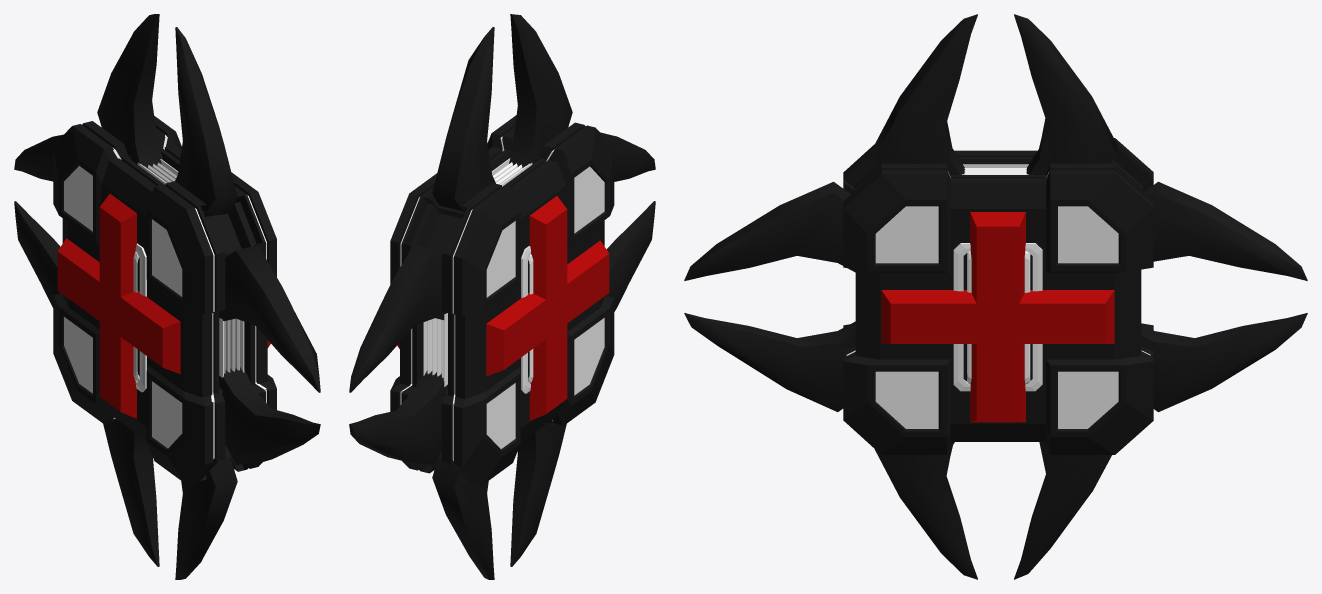
The model's file is Health_Pickup3.fbx.
3 renders of one model, left to right at view 1: azimuth 30°, elevation 25°; view 2: azimuth 150°, elevation 25°; view 3: azimuth 270°, elevation 25°, orthographic. The views are drawn at different scales.
Parts seen in each view (by area): view 1: mergedBlocks; view 2: mergedBlocks; view 3: mergedBlocks.
Part boxes in pixels (x1,y1,x2,y2): mergedBlocks: [14, 14, 320, 579]; mergedBlocks: [349, 14, 655, 579]; mergedBlocks: [684, 14, 1307, 579].
Bounding box in the file's own units: 4.97 × 24.03 × 24.03.
